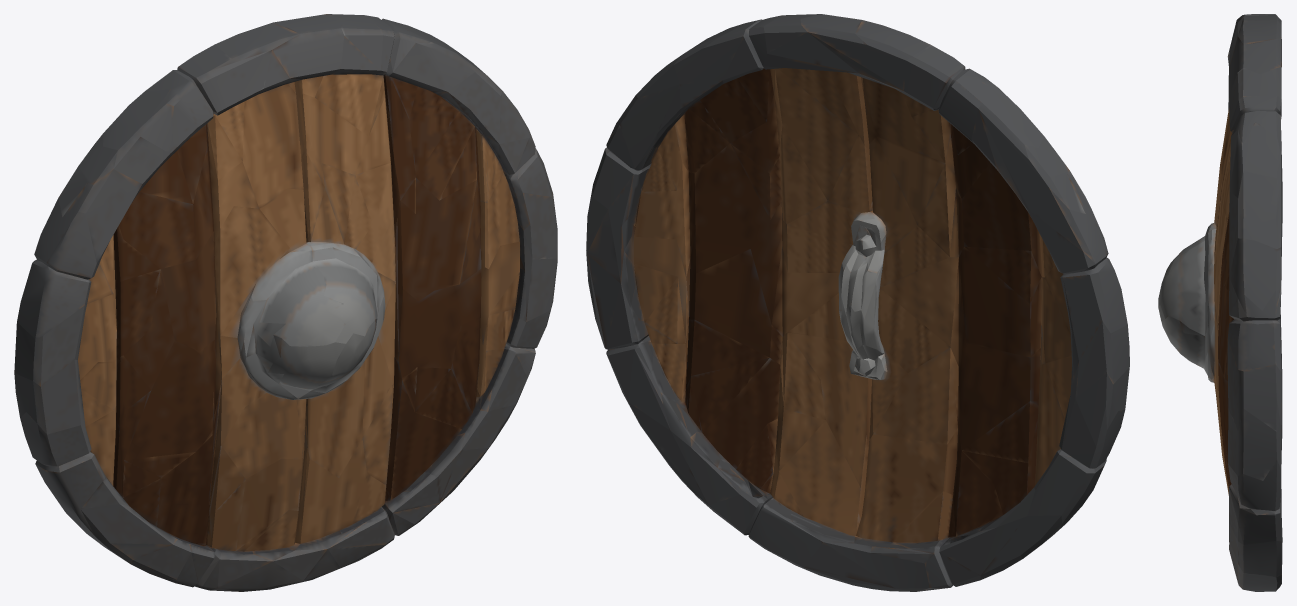
File: wooden_shield.glb
3 views of the same model, side by side, from view 1: azimuth 30°, elevation 25°; view 2: azimuth 150°, elevation 25°; view 3: azimuth 270°, elevation 25° (orthographic). The views are drawn at different scales.
Bounding box in the file's own units: 1.9 × 1.9 × 0.4098.
Materials: 1 (1 with a texture image).
